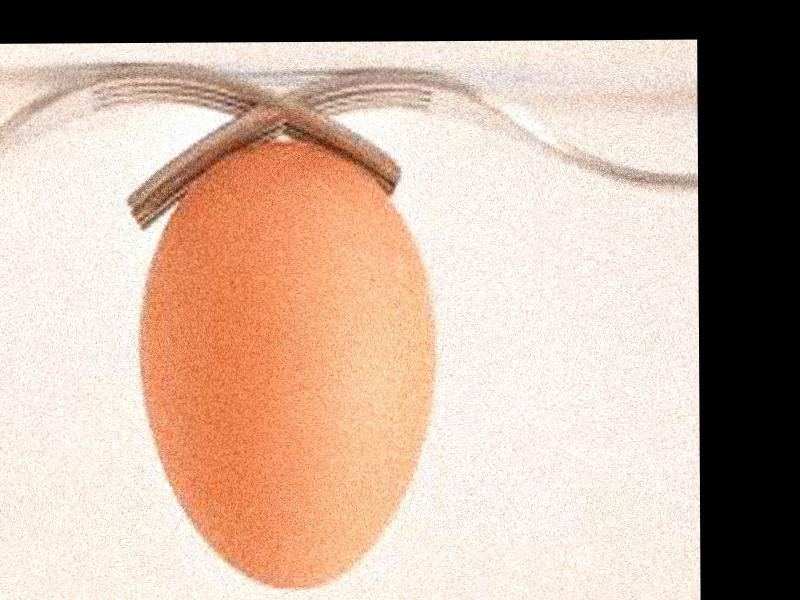Eggs: (139, 141, 437, 588)
